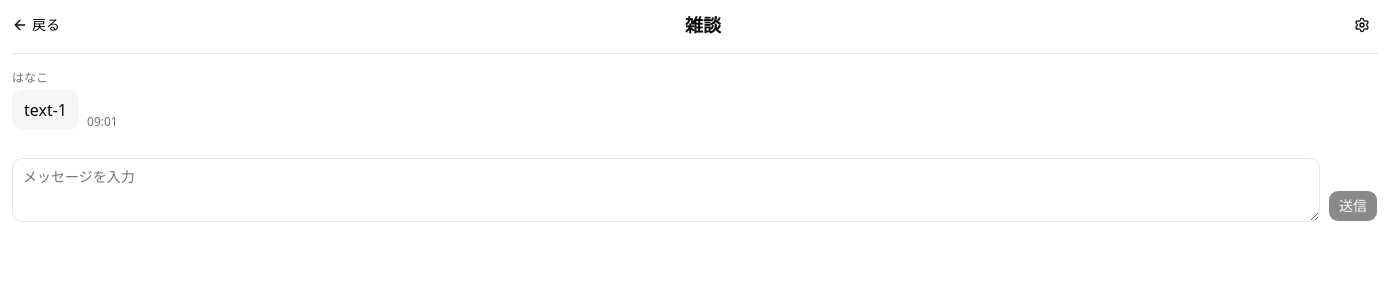
ChatView › 投稿フォームとの組み込み › 送信に成功すると末尾に描画され、同じ id の message.created で二重にならない
Expected: the text "text-1" is shown, [12,90,79,130]
In the text box labelled "メッセージ": (666, 190) [12,158,1320,222], type "hi"
Then press Enter
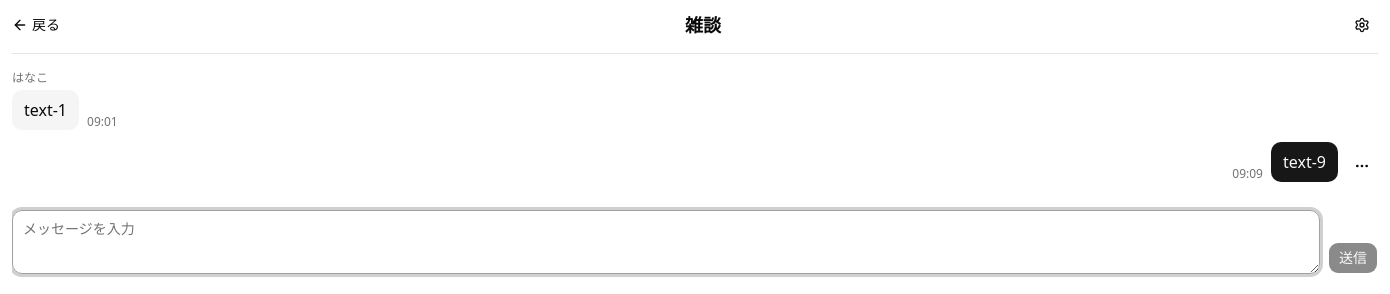
Expected: the text "text-9" is shown, [1271,142,1338,182]
Expected: the number of list items is 2, [12,69,118,130]; [1232,142,1378,182]
